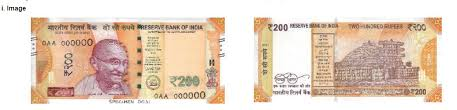twoHundred: (41, 29, 210, 95)
